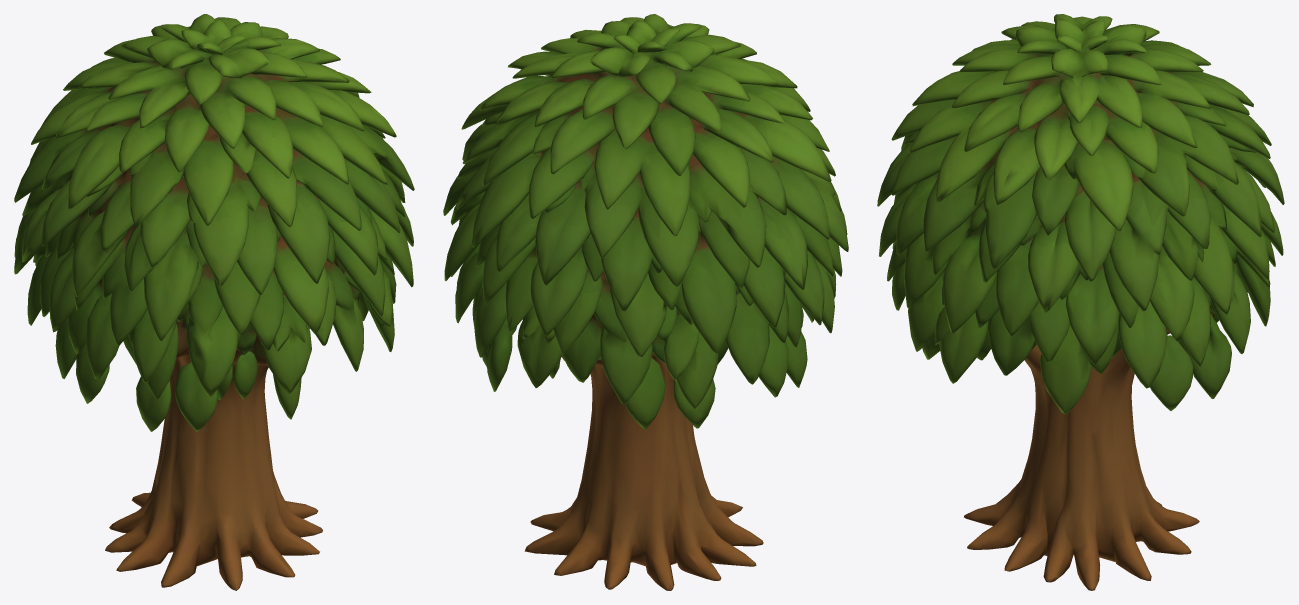
The model's file is tree_round.glb.
3 views of the same model, side by side, from view 1: azimuth 30°, elevation 25°; view 2: azimuth 150°, elevation 25°; view 3: azimuth 270°, elevation 25° (orthographic).
Visible parts, largest first — view 1: tripo_node_10266bc6-397c-4e79-8fc6-9f0e86f026b6; view 2: tripo_node_10266bc6-397c-4e79-8fc6-9f0e86f026b6; view 3: tripo_node_10266bc6-397c-4e79-8fc6-9f0e86f026b6.
Part boxes in pixels (bbox=[...]): tripo_node_10266bc6-397c-4e79-8fc6-9f0e86f026b6: bbox=[14, 14, 414, 590]; tripo_node_10266bc6-397c-4e79-8fc6-9f0e86f026b6: bbox=[443, 14, 848, 590]; tripo_node_10266bc6-397c-4e79-8fc6-9f0e86f026b6: bbox=[877, 14, 1284, 590].
Bounding box in the file's own units: 3.33 × 4.6 × 3.32.
Materials: 1 (1 with a texture image).
